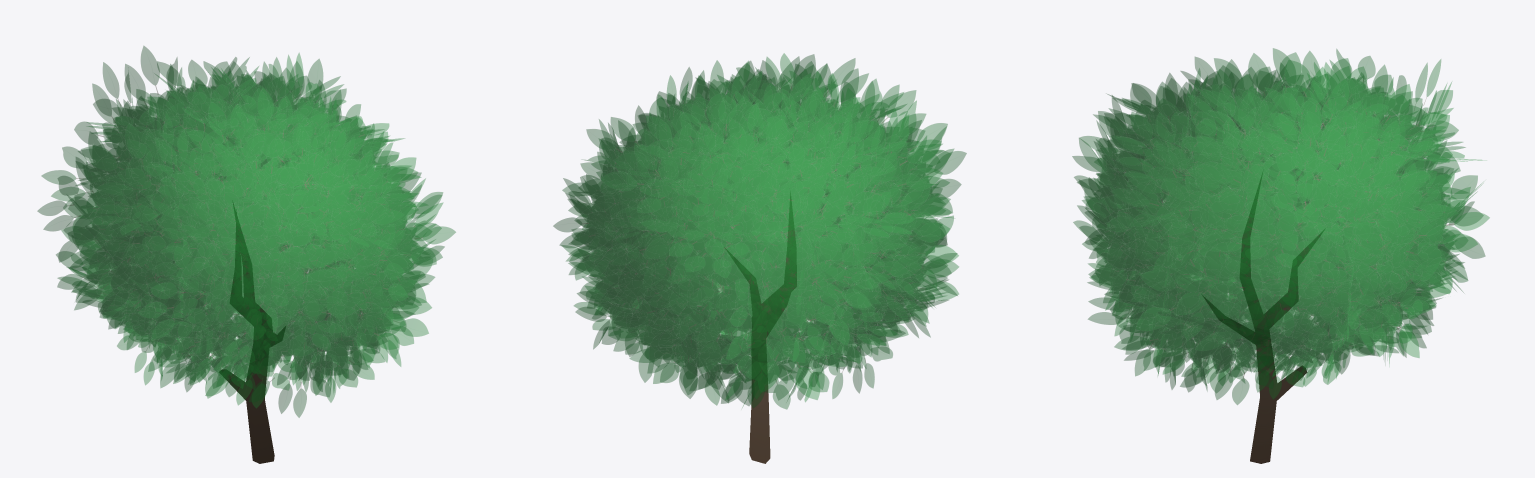
The model's file is PT_Generic_Shrub_01_green.glb.
3 renders of one model, left to right at view 1: azimuth 30°, elevation 25°; view 2: azimuth 150°, elevation 25°; view 3: azimuth 270°, elevation 25°, orthographic. The views are drawn at different scales.
Visible parts, largest first — view 1: PT_Generic_Shrub_01_green_LOD0; view 2: PT_Generic_Shrub_01_green_LOD0; view 3: PT_Generic_Shrub_01_green_LOD0.
Part boxes in pixels (box(x1,y1,x2,y2)): PT_Generic_Shrub_01_green_LOD0: box(37, 46, 455, 463); PT_Generic_Shrub_01_green_LOD0: box(553, 53, 966, 463); PT_Generic_Shrub_01_green_LOD0: box(1072, 48, 1489, 463).
Bounding box in the file's own units: 1.77 × 1.73 × 1.86.
2 materials, 2 textured.
